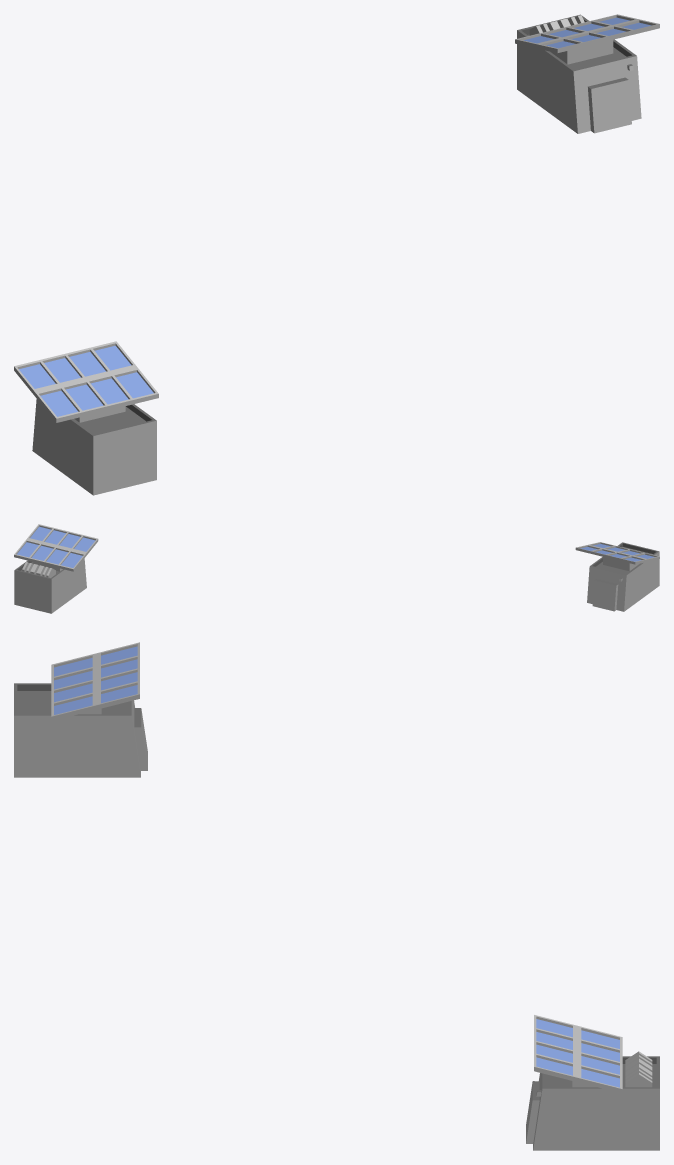
Rendered from solPanels.glb.
3 renders of one model, top to bottom at view 1: azimuth 30°, elevation 25°; view 2: azimuth 150°, elevation 25°; view 3: azimuth 270°, elevation 25°, orthographic. The views are drawn at different scales.
Visible parts, largest first — view 1: Cube; view 2: Cube; view 3: Cube.
Part boxes in pixels (<box>): Cube: <box>14,14,659,495</box>; Cube: <box>14,524,659,613</box>; Cube: <box>14,642,659,1150</box>.
Size of the model in its own units: 74.7 by 7.67 by 48.04.
